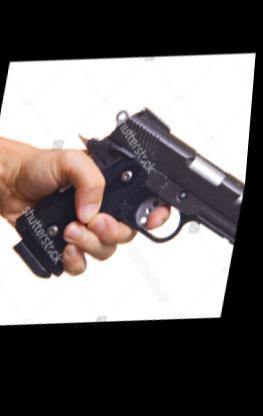pistol: (10, 89, 254, 305)
